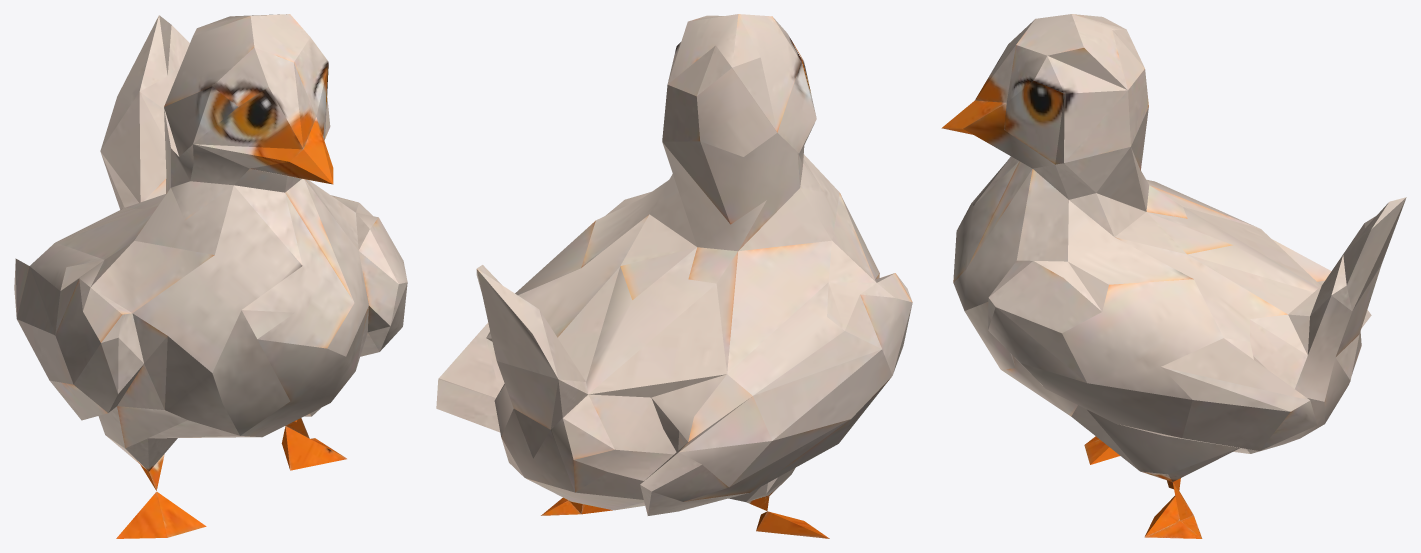
Rendered from duck-white-lod.glb.
3 views of the same model, side by side, from view 1: azimuth 30°, elevation 25°; view 2: azimuth 150°, elevation 25°; view 3: azimuth 270°, elevation 25° (orthographic). The views are drawn at different scales.
Visible parts, largest first — view 1: output_unwrapped; view 2: output_unwrapped; view 3: output_unwrapped.
Boxes of the visible parts, x1=… form: output_unwrapped: x1=14, y1=14, x2=407, y2=538; output_unwrapped: x1=436, y1=14, x2=912, y2=538; output_unwrapped: x1=941, y1=14, x2=1406, y2=538.
Bounding box in the file's own units: 0.4106 × 0.55 × 0.4975.
1 material, 1 textured.
